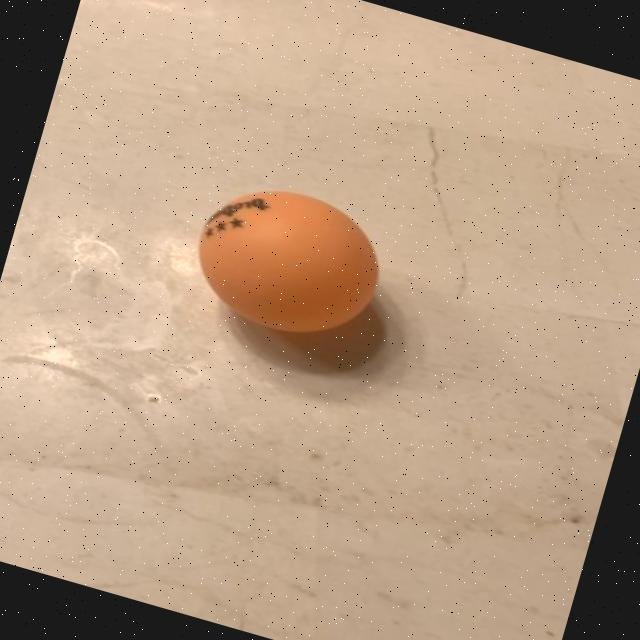ping-pong-ball: (170, 158, 414, 366)
